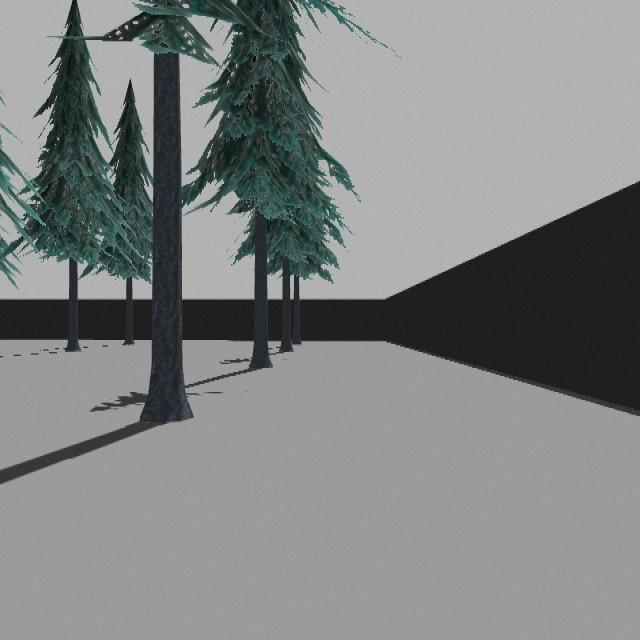tree: (98, 0, 231, 429), (183, 0, 330, 372)
